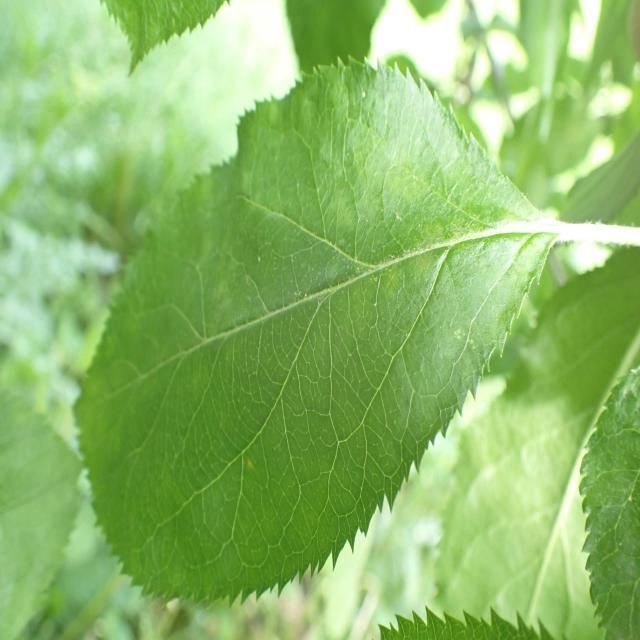scab: (75, 224, 499, 441)
